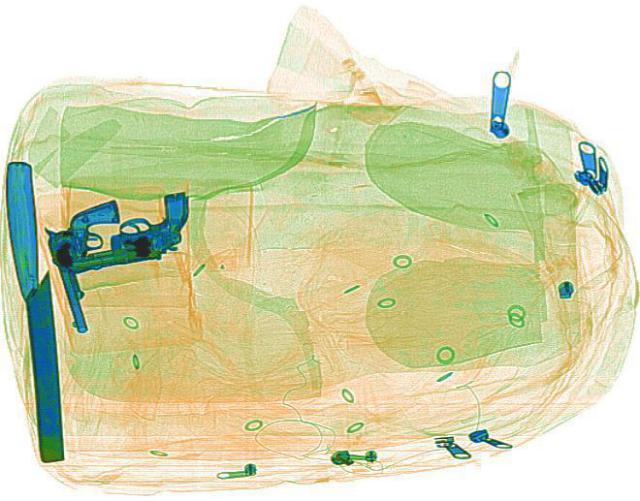Gun: (29, 196, 155, 333), (48, 188, 205, 273)
Knife: (0, 158, 67, 461)
